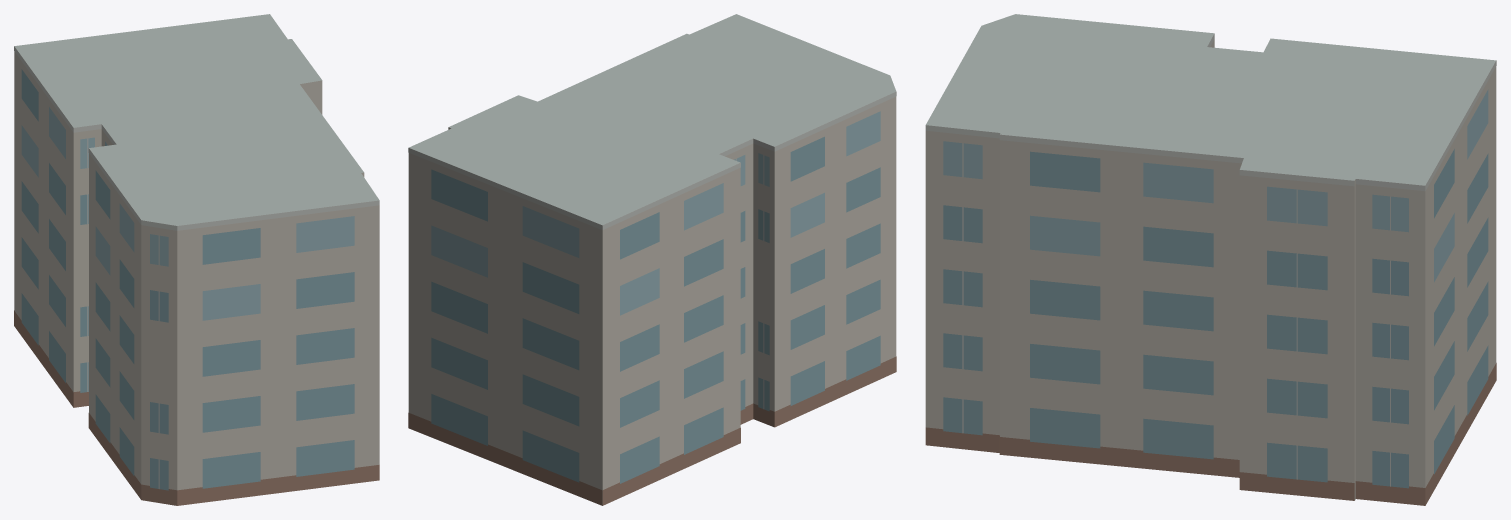
Rendered from survey-upis-32659179.glb.
3 views of the same model, side by side, from view 1: azimuth 30°, elevation 25°; view 2: azimuth 150°, elevation 25°; view 3: azimuth 270°, elevation 25° (orthographic). The views are drawn at different scales.
Parts seen in each view (by area): view 1: survey-upis-32659179.tmp; view 2: survey-upis-32659179.tmp; view 3: survey-upis-32659179.tmp.
Part boxes in pixels (bbox=[...]): survey-upis-32659179.tmp: bbox=[14, 14, 379, 505]; survey-upis-32659179.tmp: bbox=[408, 14, 896, 505]; survey-upis-32659179.tmp: bbox=[925, 14, 1496, 505].
Bounding box in the file's own units: 16.23 × 14.1 × 22.8.
